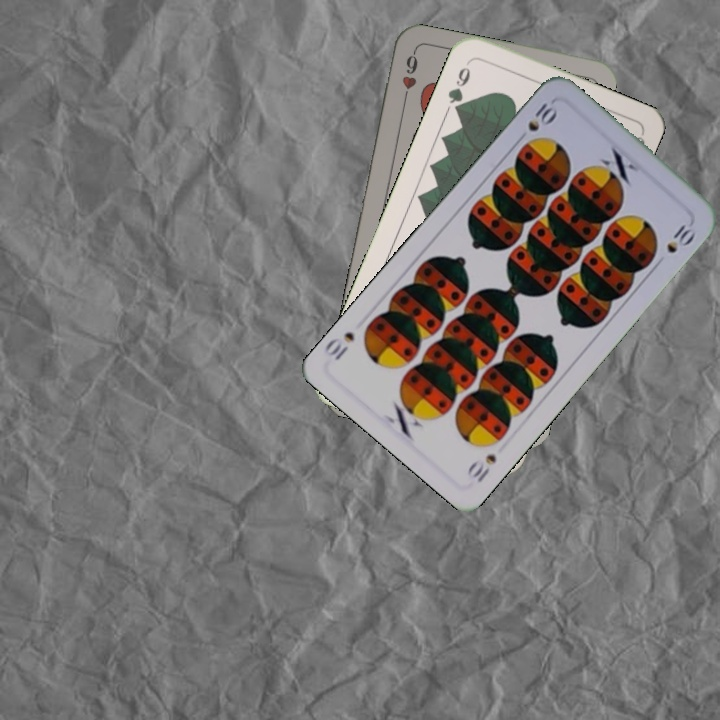G9: (444, 63, 473, 117)
H9: (398, 48, 421, 107)
S10: (512, 98, 561, 145), (462, 449, 499, 485)
